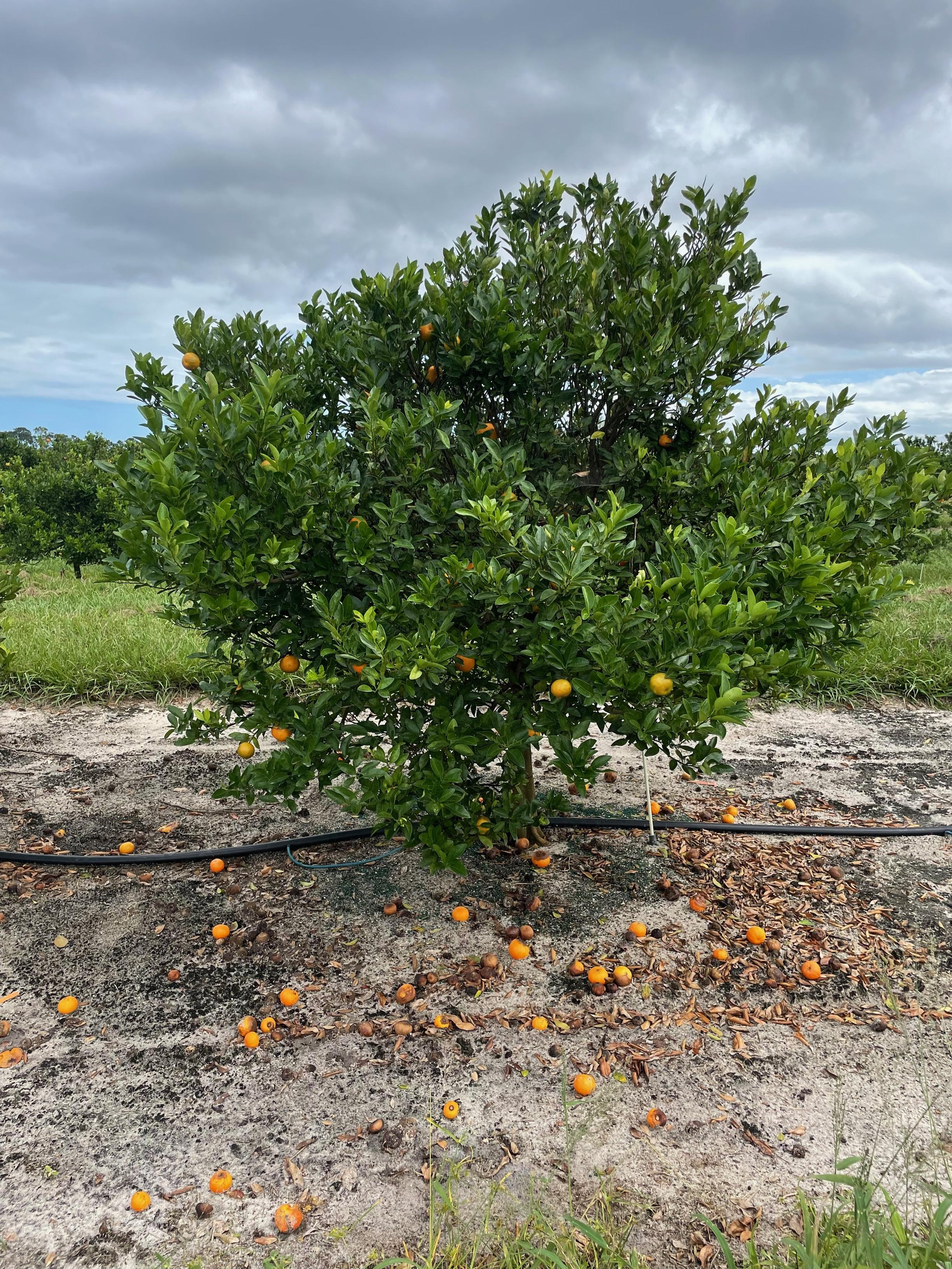fruit_on_ground: (647, 669, 676, 697), (473, 419, 503, 446), (452, 650, 478, 673), (548, 676, 574, 699), (179, 349, 203, 373), (257, 455, 282, 478), (345, 512, 371, 534), (417, 320, 441, 343), (349, 655, 374, 677), (278, 652, 301, 675), (472, 813, 494, 837), (441, 332, 464, 354), (423, 364, 447, 385), (270, 722, 293, 743), (236, 739, 256, 760), (656, 432, 675, 450), (441, 571, 461, 588), (523, 724, 542, 741)
fruit_on_tree: (273, 1201, 305, 1233), (208, 1168, 233, 1194), (572, 1071, 597, 1096), (798, 958, 823, 982), (1, 1045, 26, 1067), (645, 1106, 668, 1129), (129, 1189, 152, 1212), (56, 993, 79, 1016), (394, 981, 416, 1004), (612, 963, 634, 986), (509, 937, 531, 960), (745, 924, 767, 945), (278, 986, 300, 1007), (530, 848, 551, 868), (450, 903, 471, 923), (588, 964, 609, 984), (627, 918, 648, 938), (512, 833, 532, 853), (442, 1099, 461, 1120), (211, 921, 232, 940), (237, 1014, 257, 1033), (380, 898, 400, 917), (687, 894, 708, 912), (524, 893, 543, 912), (432, 1012, 452, 1030), (207, 856, 227, 874), (480, 950, 499, 968), (517, 923, 536, 941), (682, 843, 702, 860), (530, 1015, 550, 1032), (827, 863, 845, 880), (568, 957, 586, 974), (711, 945, 729, 962), (357, 1019, 375, 1036), (259, 1015, 277, 1032), (117, 839, 136, 855), (464, 970, 483, 986), (655, 873, 672, 890), (765, 936, 783, 952), (243, 1031, 261, 1047), (589, 981, 608, 996), (412, 971, 430, 986), (367, 1117, 383, 1133), (566, 782, 583, 797), (602, 768, 619, 783), (165, 967, 182, 982), (226, 881, 242, 896), (647, 799, 662, 815), (782, 796, 797, 810), (796, 869, 812, 882), (41, 841, 56, 854), (724, 804, 739, 817), (139, 870, 153, 883), (425, 970, 439, 983), (679, 769, 693, 782), (662, 802, 675, 815)
